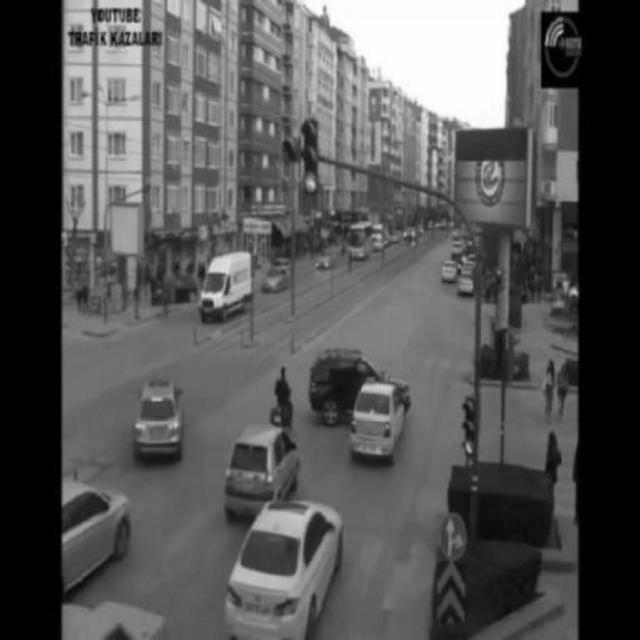accident: (314, 353, 416, 456)
person: (541, 428, 568, 475), (541, 353, 561, 409)
vehicle: (226, 501, 337, 639), (225, 427, 308, 523), (64, 472, 128, 590), (131, 379, 195, 463), (201, 256, 259, 320), (268, 365, 298, 423), (342, 221, 376, 262), (258, 263, 295, 300), (311, 245, 345, 271)
